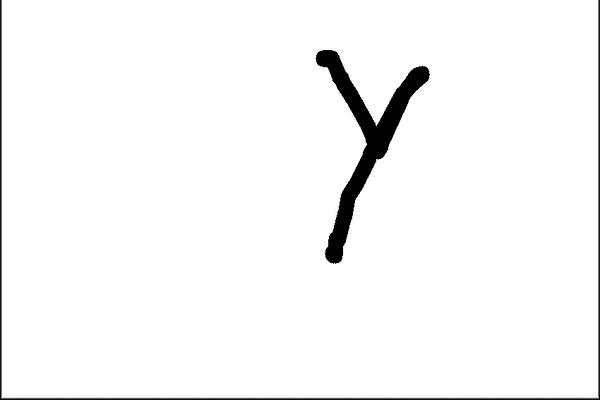Y: (300, 37, 439, 271)
